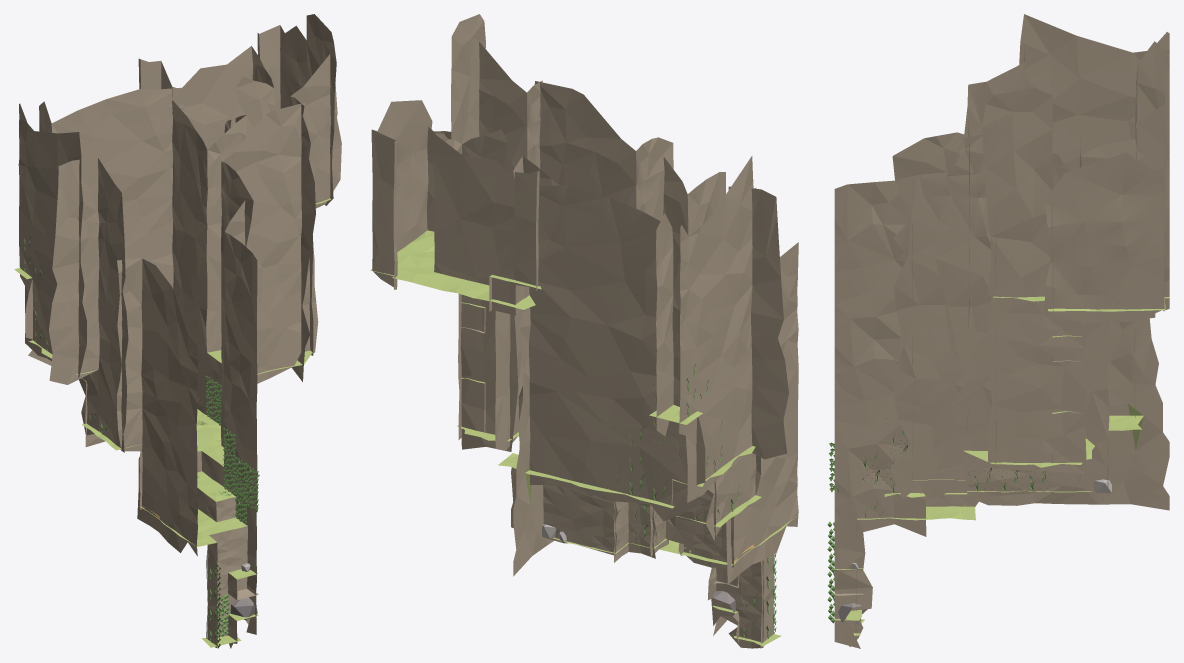
The picture shows the model from 3 angles, left to right: view 1: azimuth 30°, elevation 25°; view 2: azimuth 150°, elevation 25°; view 3: azimuth 270°, elevation 25°; orthographic projection. The views are drawn at different scales.
Visible parts, largest first — view 1: toDelete; view 2: toDelete; view 3: toDelete.
Boxes of the visible parts, bbox=[...] form: toDelete: bbox=[14, 14, 341, 648]; toDelete: bbox=[370, 14, 798, 648]; toDelete: bbox=[827, 14, 1169, 648].
Size of the model in its own units: 15.05 by 25.86 by 12.25.
Materials: 1 (1 with a texture image).
